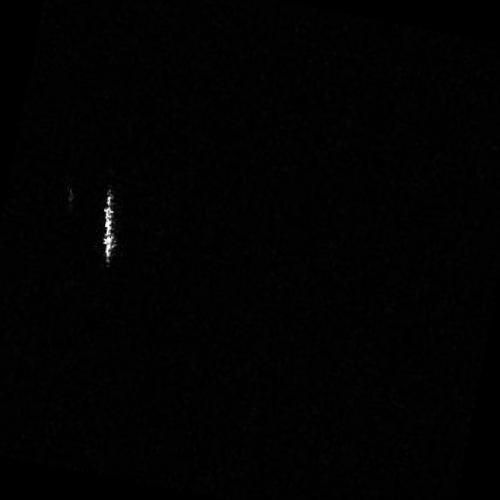ship: (101, 188, 118, 268)
